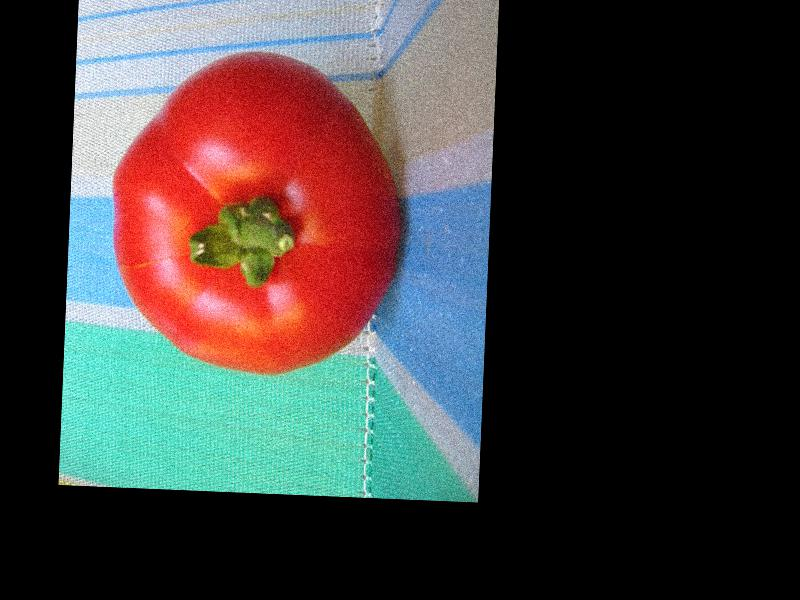Tomato: (105, 48, 409, 379)
